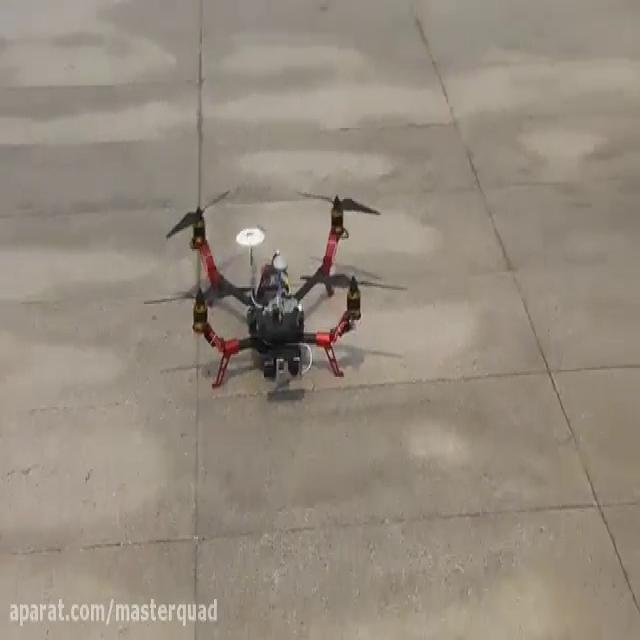drone: (146, 190, 407, 390)
